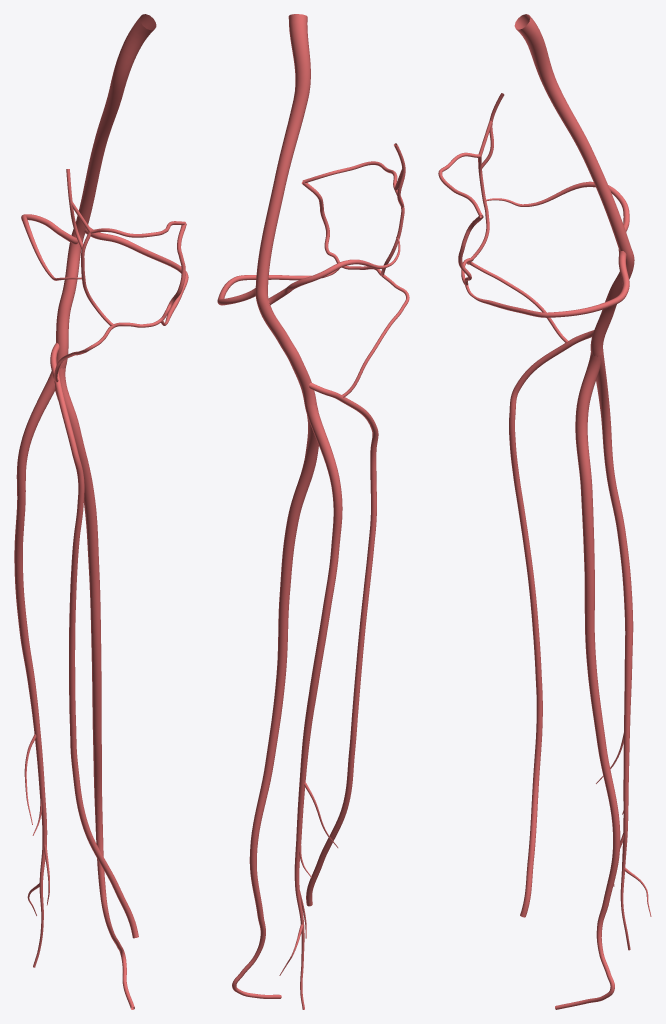
File: arteries.glb
3 views of the same model, side by side, from view 1: azimuth 30°, elevation 25°; view 2: azimuth 150°, elevation 25°; view 3: azimuth 270°, elevation 25° (orthographic). The views are drawn at different scales.
Parts seen in each view (by area): view 1: Posterior tibial artery.r, Fibular artery.r, Popliteal artery.r, Anterior tibial artery.r, Patellar anastomosis.r, Inferior medial genicular artery.r, Inferior lateral genicular artery.r; view 2: Popliteal artery.r, Posterior tibial artery.r, Fibular artery.r, Anterior tibial artery.r, Patellar anastomosis.r, Inferior lateral genicular artery.r, Inferior medial genicular artery.r; view 3: Posterior tibial artery.r, Popliteal artery.r, Fibular artery.r, Anterior tibial artery.r, Patellar anastomosis.r, Inferior medial genicular artery.r, Inferior lateral genicular artery.r.
Part boxes in pixels (<box>): Posterior tibial artery.r: <box>55,367,134,1009</box>; Fibular artery.r: <box>14,371,55,967</box>; Popliteal artery.r: <box>56,14,156,368</box>; Anterior tibial artery.r: <box>50,342,138,938</box>; Patellar anastomosis.r: <box>54,169,186,382</box>; Inferior medial genicular artery.r: <box>84,225,188,324</box>; Inferior lateral genicular artery.r: <box>21,214,81,280</box>; Popliteal artery.r: <box>255,14,316,405</box>; Posterior tibial artery.r: <box>232,403,318,998</box>; Fibular artery.r: <box>279,403,342,1009</box>; Anterior tibial artery.r: <box>306,382,378,906</box>; Patellar anastomosis.r: <box>301,143,409,397</box>; Inferior lateral genicular artery.r: <box>268,237,400,305</box>; Inferior medial genicular artery.r: <box>217,274,329,305</box>; Posterior tibial artery.r: <box>555,352,620,1009</box>; Popliteal artery.r: <box>514,14,634,355</box>; Fibular artery.r: <box>594,352,651,950</box>; Anterior tibial artery.r: <box>509,330,593,917</box>; Patellar anastomosis.r: <box>438,93,567,342</box>; Inferior medial genicular artery.r: <box>473,250,629,317</box>; Inferior lateral genicular artery.r: <box>485,181,629,253</box>.
Bounding box in the file's own units: 0.082 × 0.527 × 0.1025.
